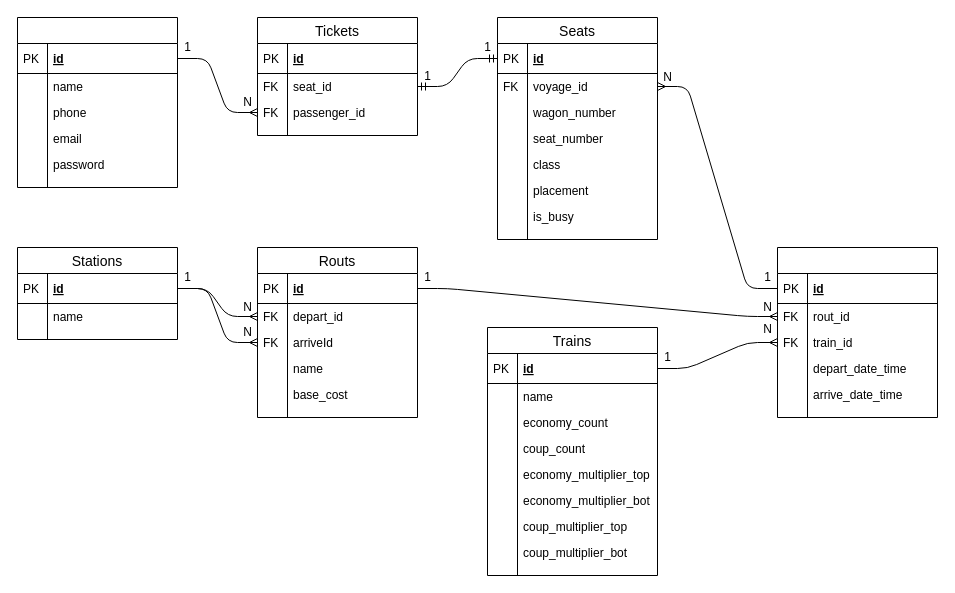
Some shapes in this 955 by 593 pixel diagram are drawn without their labels. The box of each missing label's shape, as (x1, y1, x2, y2) in pixels:
Passengers_Users: (16, 16, 178, 188)
Voyages: (776, 246, 938, 418)
